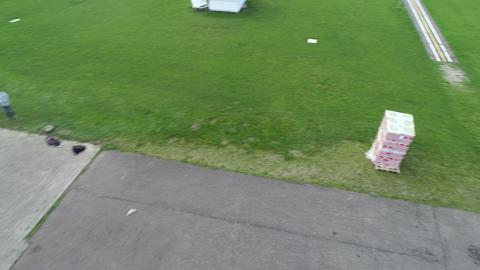RockwoolPallet: (368, 109, 418, 174)
